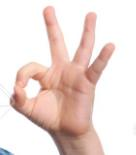left: (6, 4, 117, 136)
